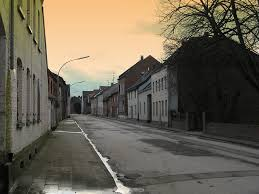strada: (1, 125, 259, 190)
